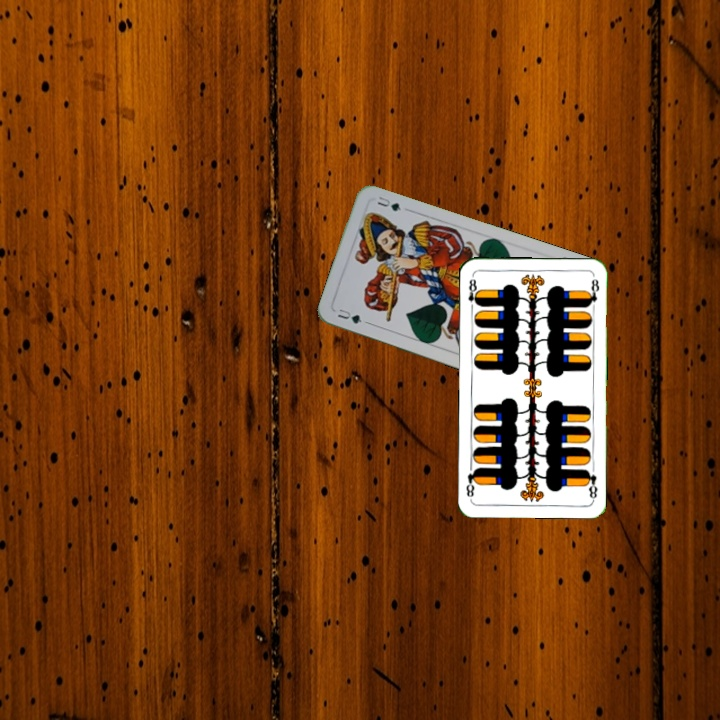E8: (464, 275, 482, 313), (582, 465, 600, 502)
GU: (333, 304, 364, 326)
